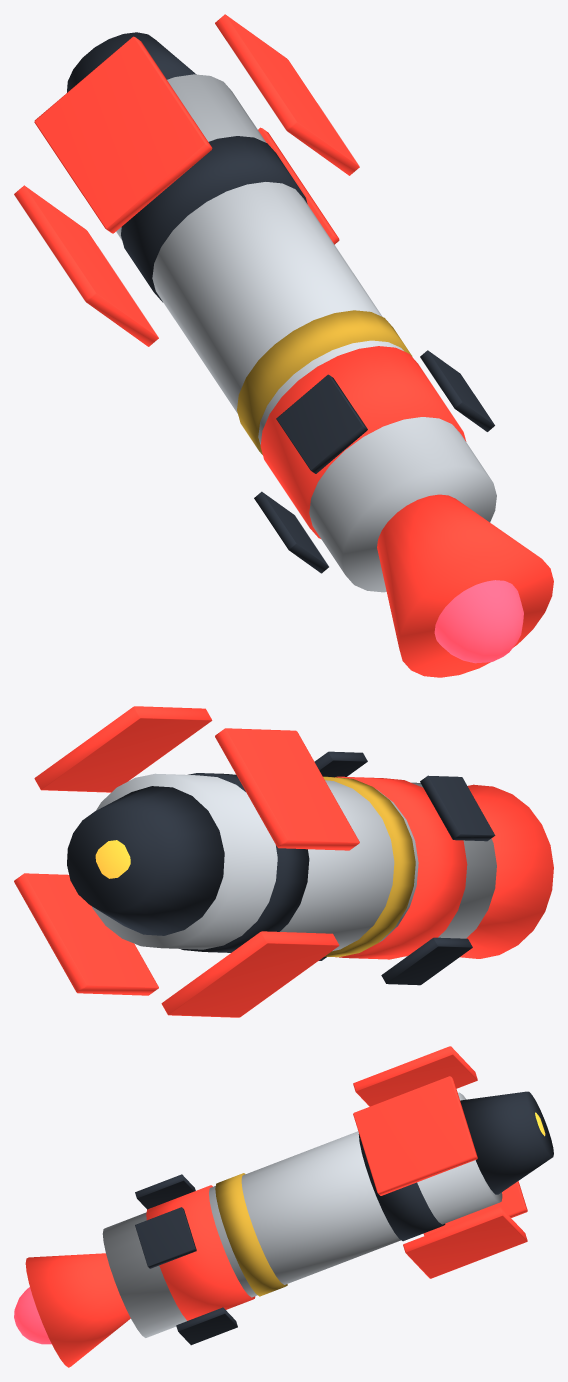
Rendered from pickup_missile.glb.
3 views of the same model, one above another, from view 1: azimuth 30°, elevation 25°; view 2: azimuth 150°, elevation 25°; view 3: azimuth 270°, elevation 25° (orthographic). The views are drawn at different scales.
Visible parts, largest first — view 1: PickupMissile; view 2: PickupMissile; view 3: PickupMissile.
Boxes of the visible parts, x1,y1,x2,y2 form: PickupMissile: (14, 14, 553, 677); PickupMissile: (14, 706, 553, 1017); PickupMissile: (14, 1046, 553, 1367).
Bounding box in the file's own units: 1.01 × 1.69 × 2.74.
